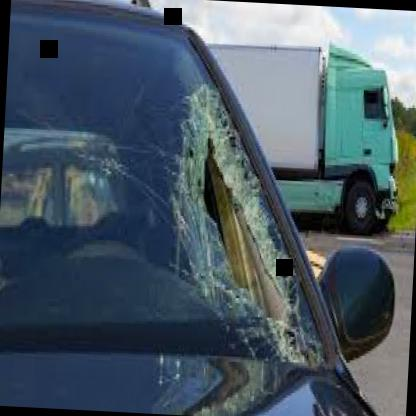accident: (95, 18, 381, 400)
